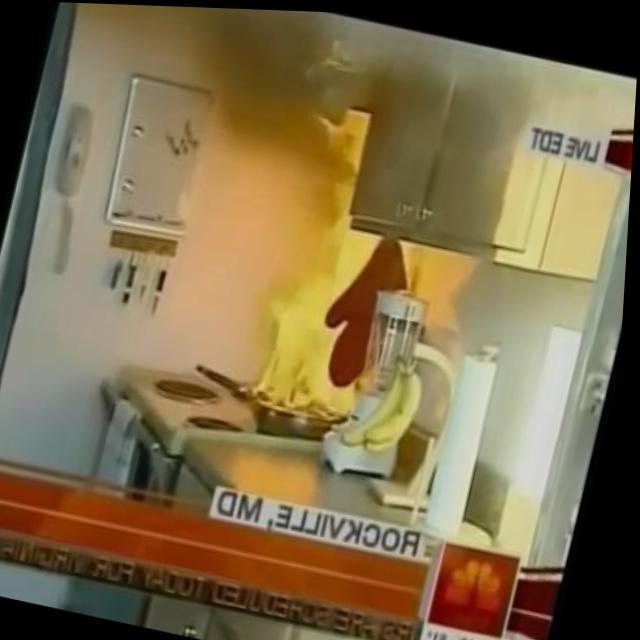fire: (251, 195, 400, 426)
